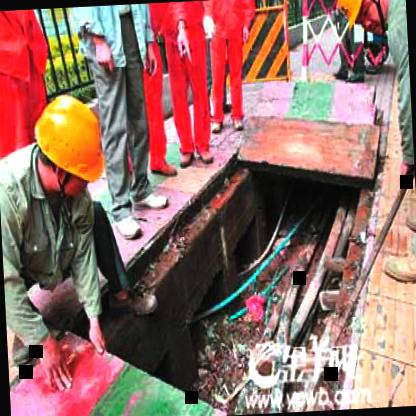helmet: (22, 85, 110, 208), (334, 0, 389, 37)
